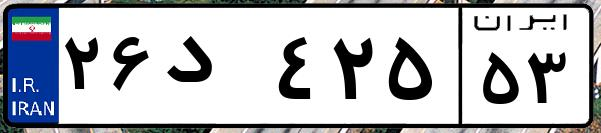2: (330, 28, 385, 110), (57, 26, 110, 100)
3: (525, 38, 570, 115)
4: (270, 28, 330, 110)
5: (385, 28, 445, 110), (475, 38, 525, 113)
6: (110, 28, 158, 98)
د: (158, 20, 270, 120)
